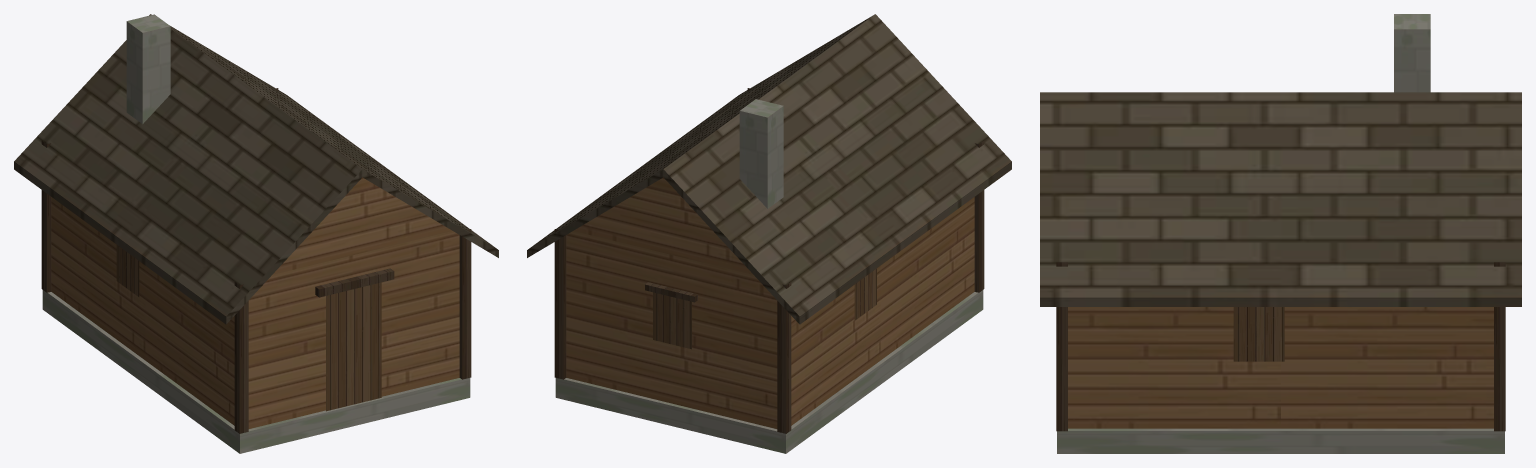
The model's file is ae_forest_wood_medium_block_lod1.glb.
The picture shows the model from 3 angles, left to right: view 1: azimuth 30°, elevation 25°; view 2: azimuth 150°, elevation 25°; view 3: azimuth 270°, elevation 25°; orthographic projection. The views are drawn at different scales.
Visible parts, largest first — view 1: ae_forest_wood_medium_block_lod1; view 2: ae_forest_wood_medium_block_lod1; view 3: ae_forest_wood_medium_block_lod1.
Part boxes in pixels (x1=…): ae_forest_wood_medium_block_lod1: x1=14, y1=14, x2=498, y2=453; ae_forest_wood_medium_block_lod1: x1=527, y1=14, x2=1011, y2=453; ae_forest_wood_medium_block_lod1: x1=1040, y1=14, x2=1521, y2=453.
Size of the model in its own units: 4.9 by 5.15 by 6.6.
1 material, 1 textured.
